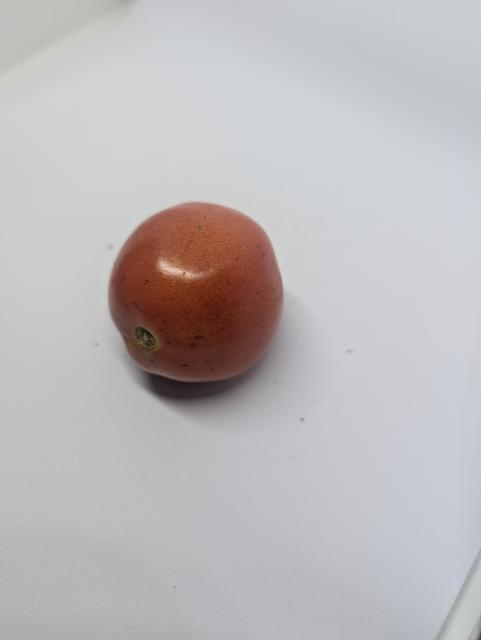red: (106, 196, 295, 391)
